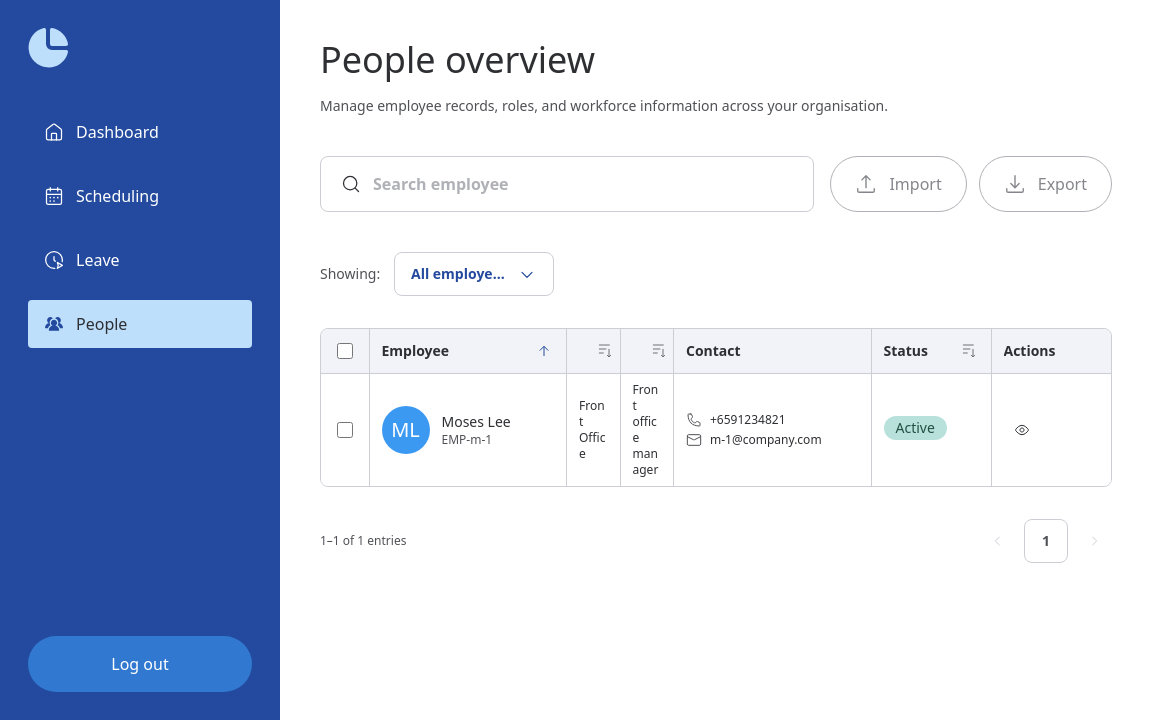
People › says when nobody matches the search
Expected: the link "Moses Lee" is shown, [442,412,511,432]
Type "zzz" into the search field labelled "Search employee" at point(583, 184), box [373,172,793,196]
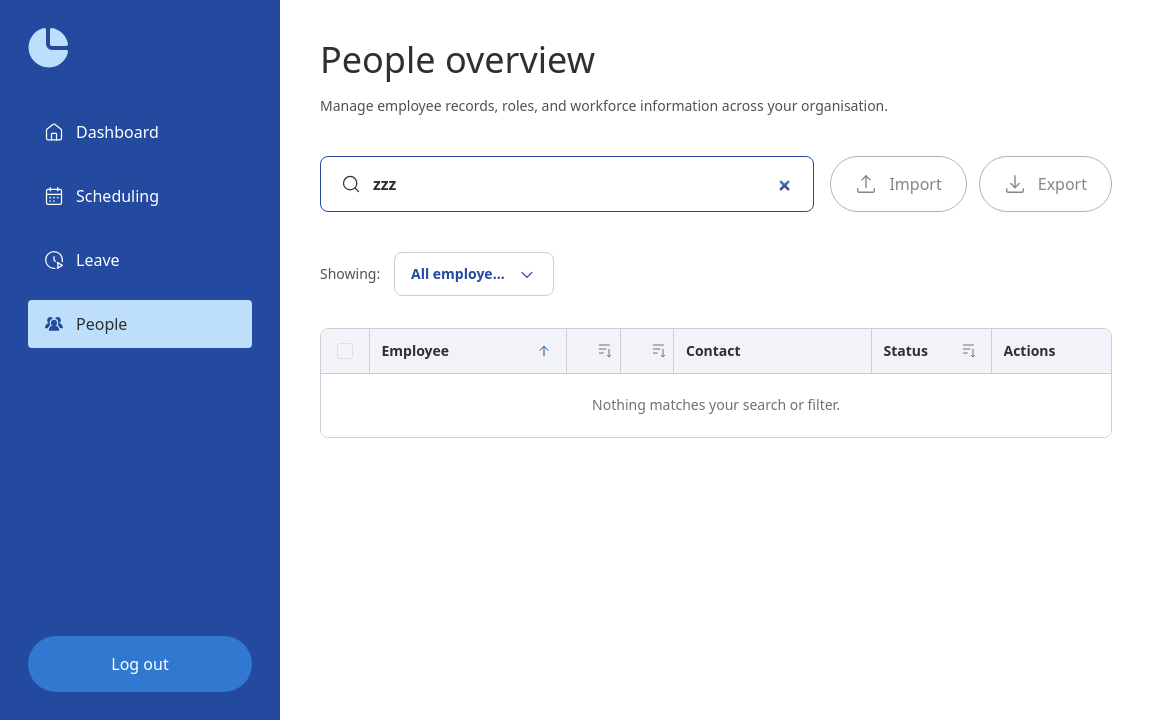
Result: the cell "Nothing matches your search or filter." is shown at [321,373,1111,437]
